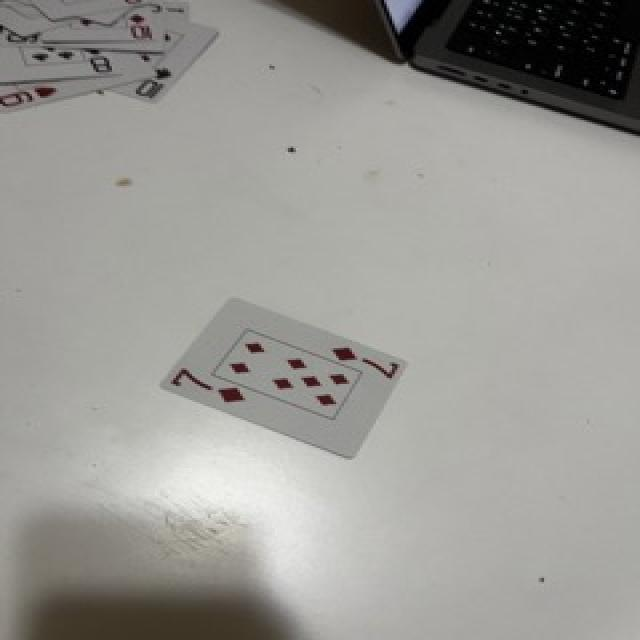7 of diamonds: (162, 299, 405, 458)
